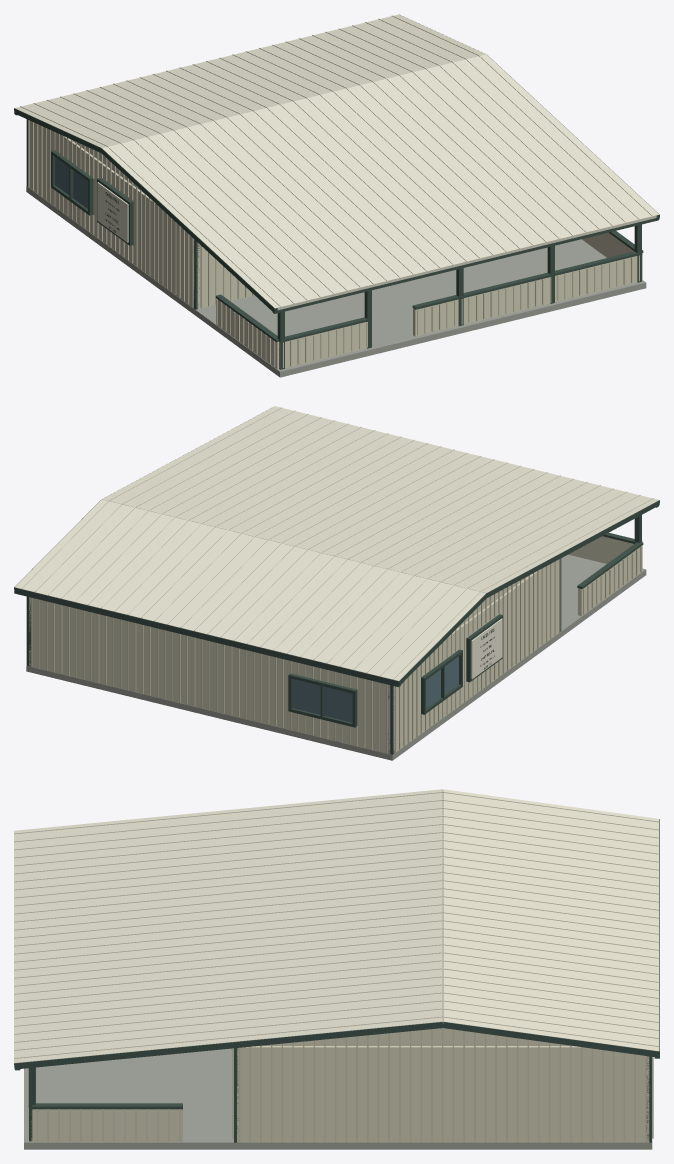
Rendered from SM_Golf_Clubhouse_02.fbx.
3 views of the same model, one above another, from view 1: azimuth 30°, elevation 25°; view 2: azimuth 150°, elevation 25°; view 3: azimuth 270°, elevation 25° (orthographic). The views are drawn at different scales.
Visible parts, largest first — view 1: SM_Golf_Clubhouse_02; view 2: SM_Golf_Clubhouse_02; view 3: SM_Golf_Clubhouse_02.
Boxes of the visible parts, x1,y1,x2,y2 form: SM_Golf_Clubhouse_02: [14, 14, 659, 377]; SM_Golf_Clubhouse_02: [14, 406, 659, 760]; SM_Golf_Clubhouse_02: [14, 789, 659, 1149].
Size of what is drawn, in the model's own units: 16.84 by 19.74 by 4.54.
